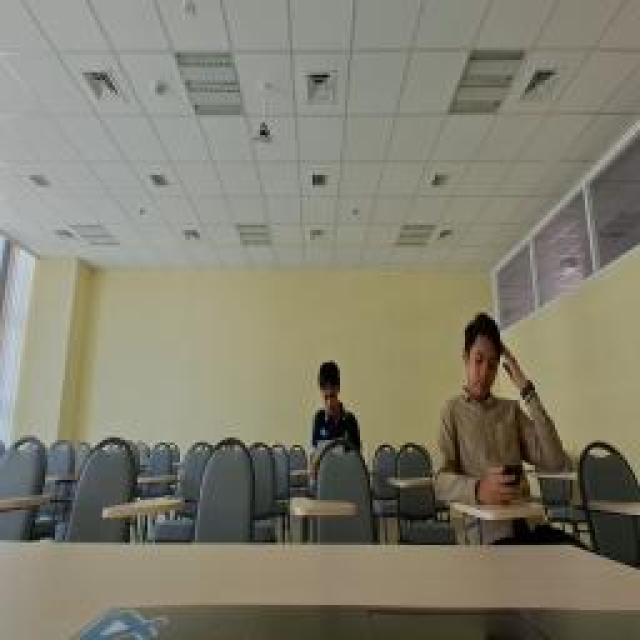phone: (435, 310, 567, 505)
study: (308, 363, 368, 505)
